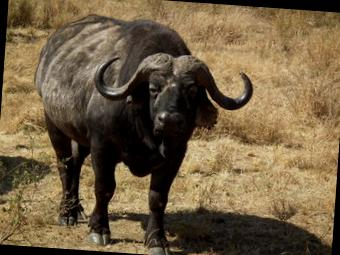Buffalo: (26, 11, 279, 255)
